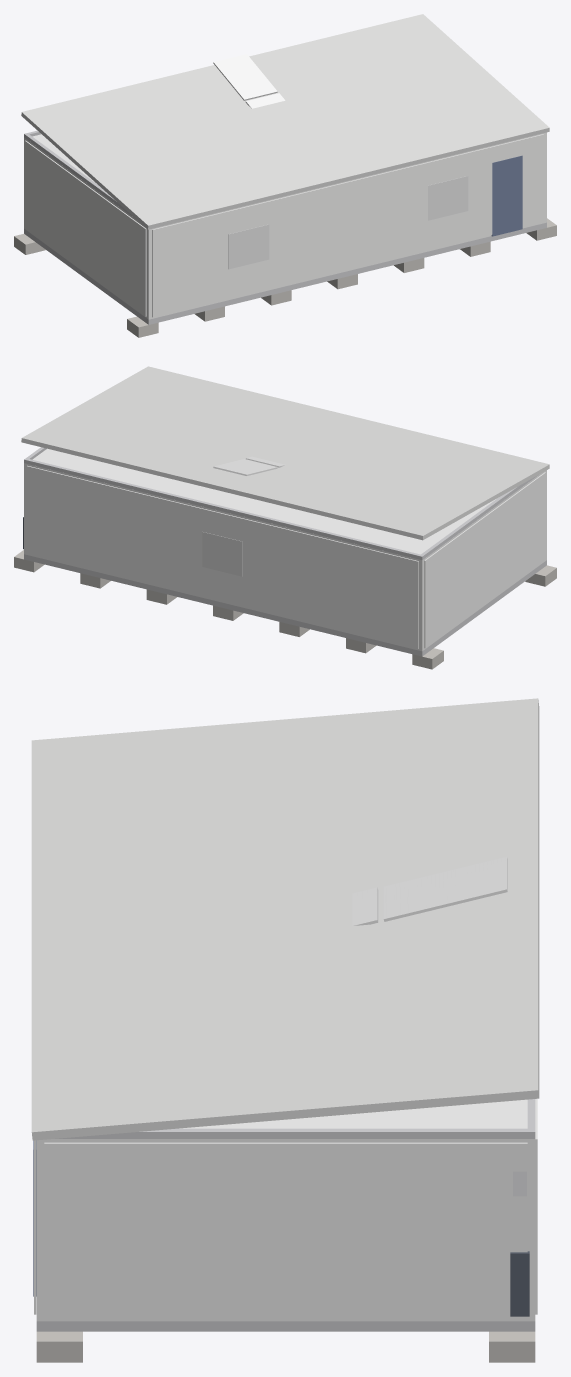
The model's file is Studio-40-SlopingRoof+FullSolar-LOD0.glb.
The picture shows the model from 3 angles, top to bottom: view 1: azimuth 30°, elevation 25°; view 2: azimuth 150°, elevation 25°; view 3: azimuth 270°, elevation 25°; orthographic projection. The views are drawn at different scales.
Visible parts, largest first — view 1: RoofSlopingUpgrade, ExteriorPanelsStandard, BaseFrame, WindowsStandard, FoundationBlocks, ExteriorShell, EntryDoor, SolarPanelArray, TopFrame; view 2: ExteriorPanelsStandard, RoofSlopingUpgrade, InteriorCeiling, TopFrame, BaseFrame, ExteriorShell, FoundationBlocks, WindowsStandard, SolarPanelArray; view 3: RoofSlopingUpgrade, ExteriorPanelsStandard, ExteriorShell, BaseFrame, SolarPanelArray, InteriorCeiling, TopFrame, FoundationBlocks, SolarBattery.
Part boxes in pixels (x1,y1,x2,y2): RoofSlopingUpgrade: (21,14,549,229); ExteriorPanelsStandard: (25,134,544,317); BaseFrame: (24,222,546,324); WindowsStandard: (228,176,468,269); FoundationBlocks: (14,218,556,337); ExteriorShell: (24,132,546,319); EntryDoor: (491,155,522,236); SolarPanelArray: (213,54,285,108); TopFrame: (24,130,136,219); ExteriorPanelsStandard: (26,465,545,648); RoofSlopingUpgrade: (21,366,549,540); InteriorCeiling: (32,448,496,554); TopFrame: (24,447,538,559); BaseFrame: (24,554,546,656); ExteriorShell: (24,463,546,651); FoundationBlocks: (14,550,556,669); WindowsStandard: (202,532,242,576); SolarPanelArray: (213,456,285,475); RoofSlopingUpgrade: (31,698,539,1140); ExteriorPanelsStandard: (34,1098,537,1318); ExteriorShell: (36,1139,535,1321); BaseFrame: (36,1321,535,1331); SolarPanelArray: (352,856,507,925); InteriorCeiling: (179,1099,527,1128); TopFrame: (55,1099,535,1138); FoundationBlocks: (36,1331,535,1362); SolarBattery: (510,1251,529,1316).
Size of the model in its own units: 12.49 by 4.07 by 6.56.
